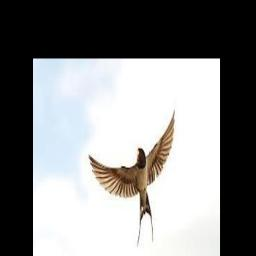Swallow: (89, 109, 176, 248)
